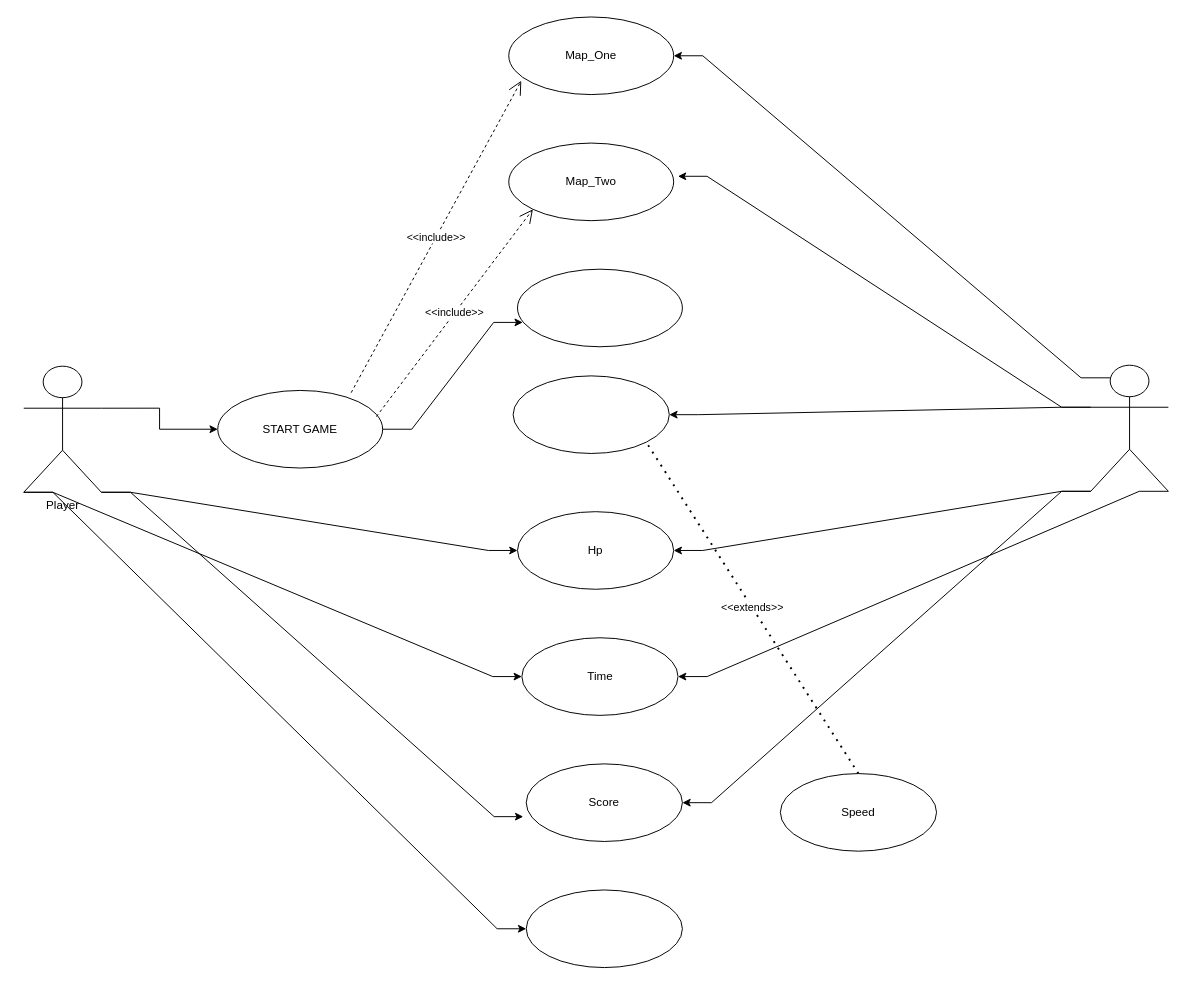
Some shapes in this 1193 by 985 pixel diagram are drawn without their labels. The centre of each missing label's shape, as x and y in pixels:
"Enemies's Move" belongs at pixel 590 414.
"Exit Game" belongs at pixel 603 928.
"Percy's Move" belongs at pixel 599 307.
"System" belongs at pixel 1129 427.
